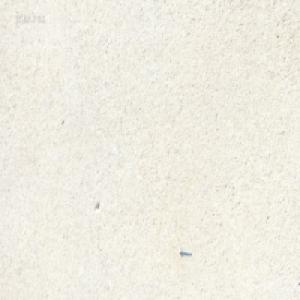Nail: (179, 247, 191, 255)
